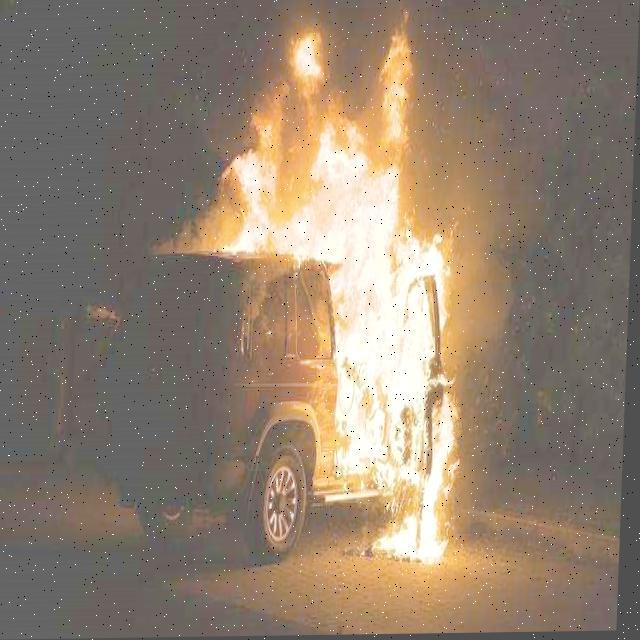Fire: (176, 34, 474, 568)
